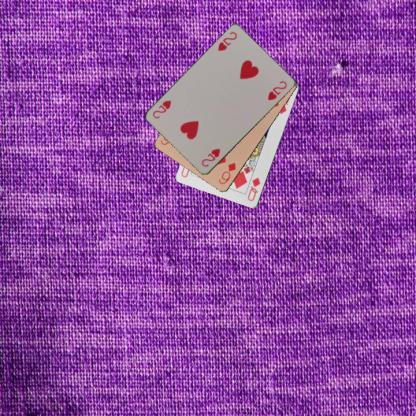2h: (199, 146, 222, 168), (215, 30, 238, 52)
6d: (216, 160, 237, 186)
Qd: (245, 175, 262, 202)
